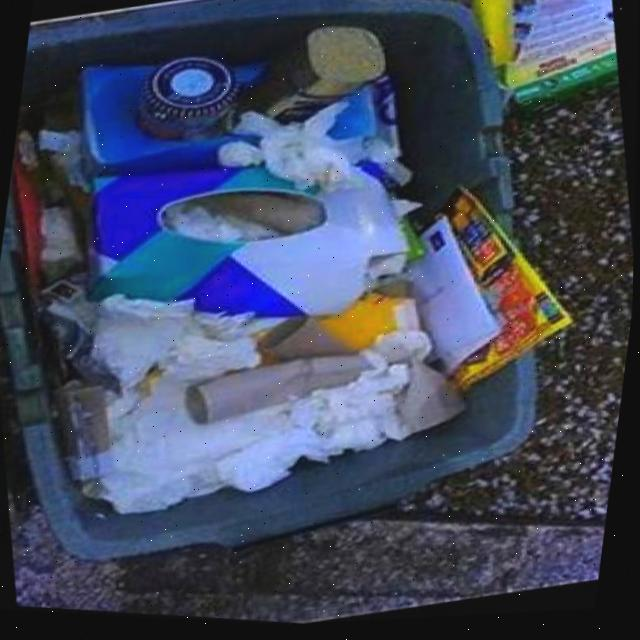Garbage: (13, 31, 571, 520)
Plastic_Container: (93, 170, 312, 321), (80, 68, 243, 178), (328, 90, 382, 144), (231, 65, 269, 90)
Plastic_wraper: (447, 194, 573, 394)
can: (240, 30, 385, 127), (138, 60, 239, 142), (59, 382, 114, 499)
